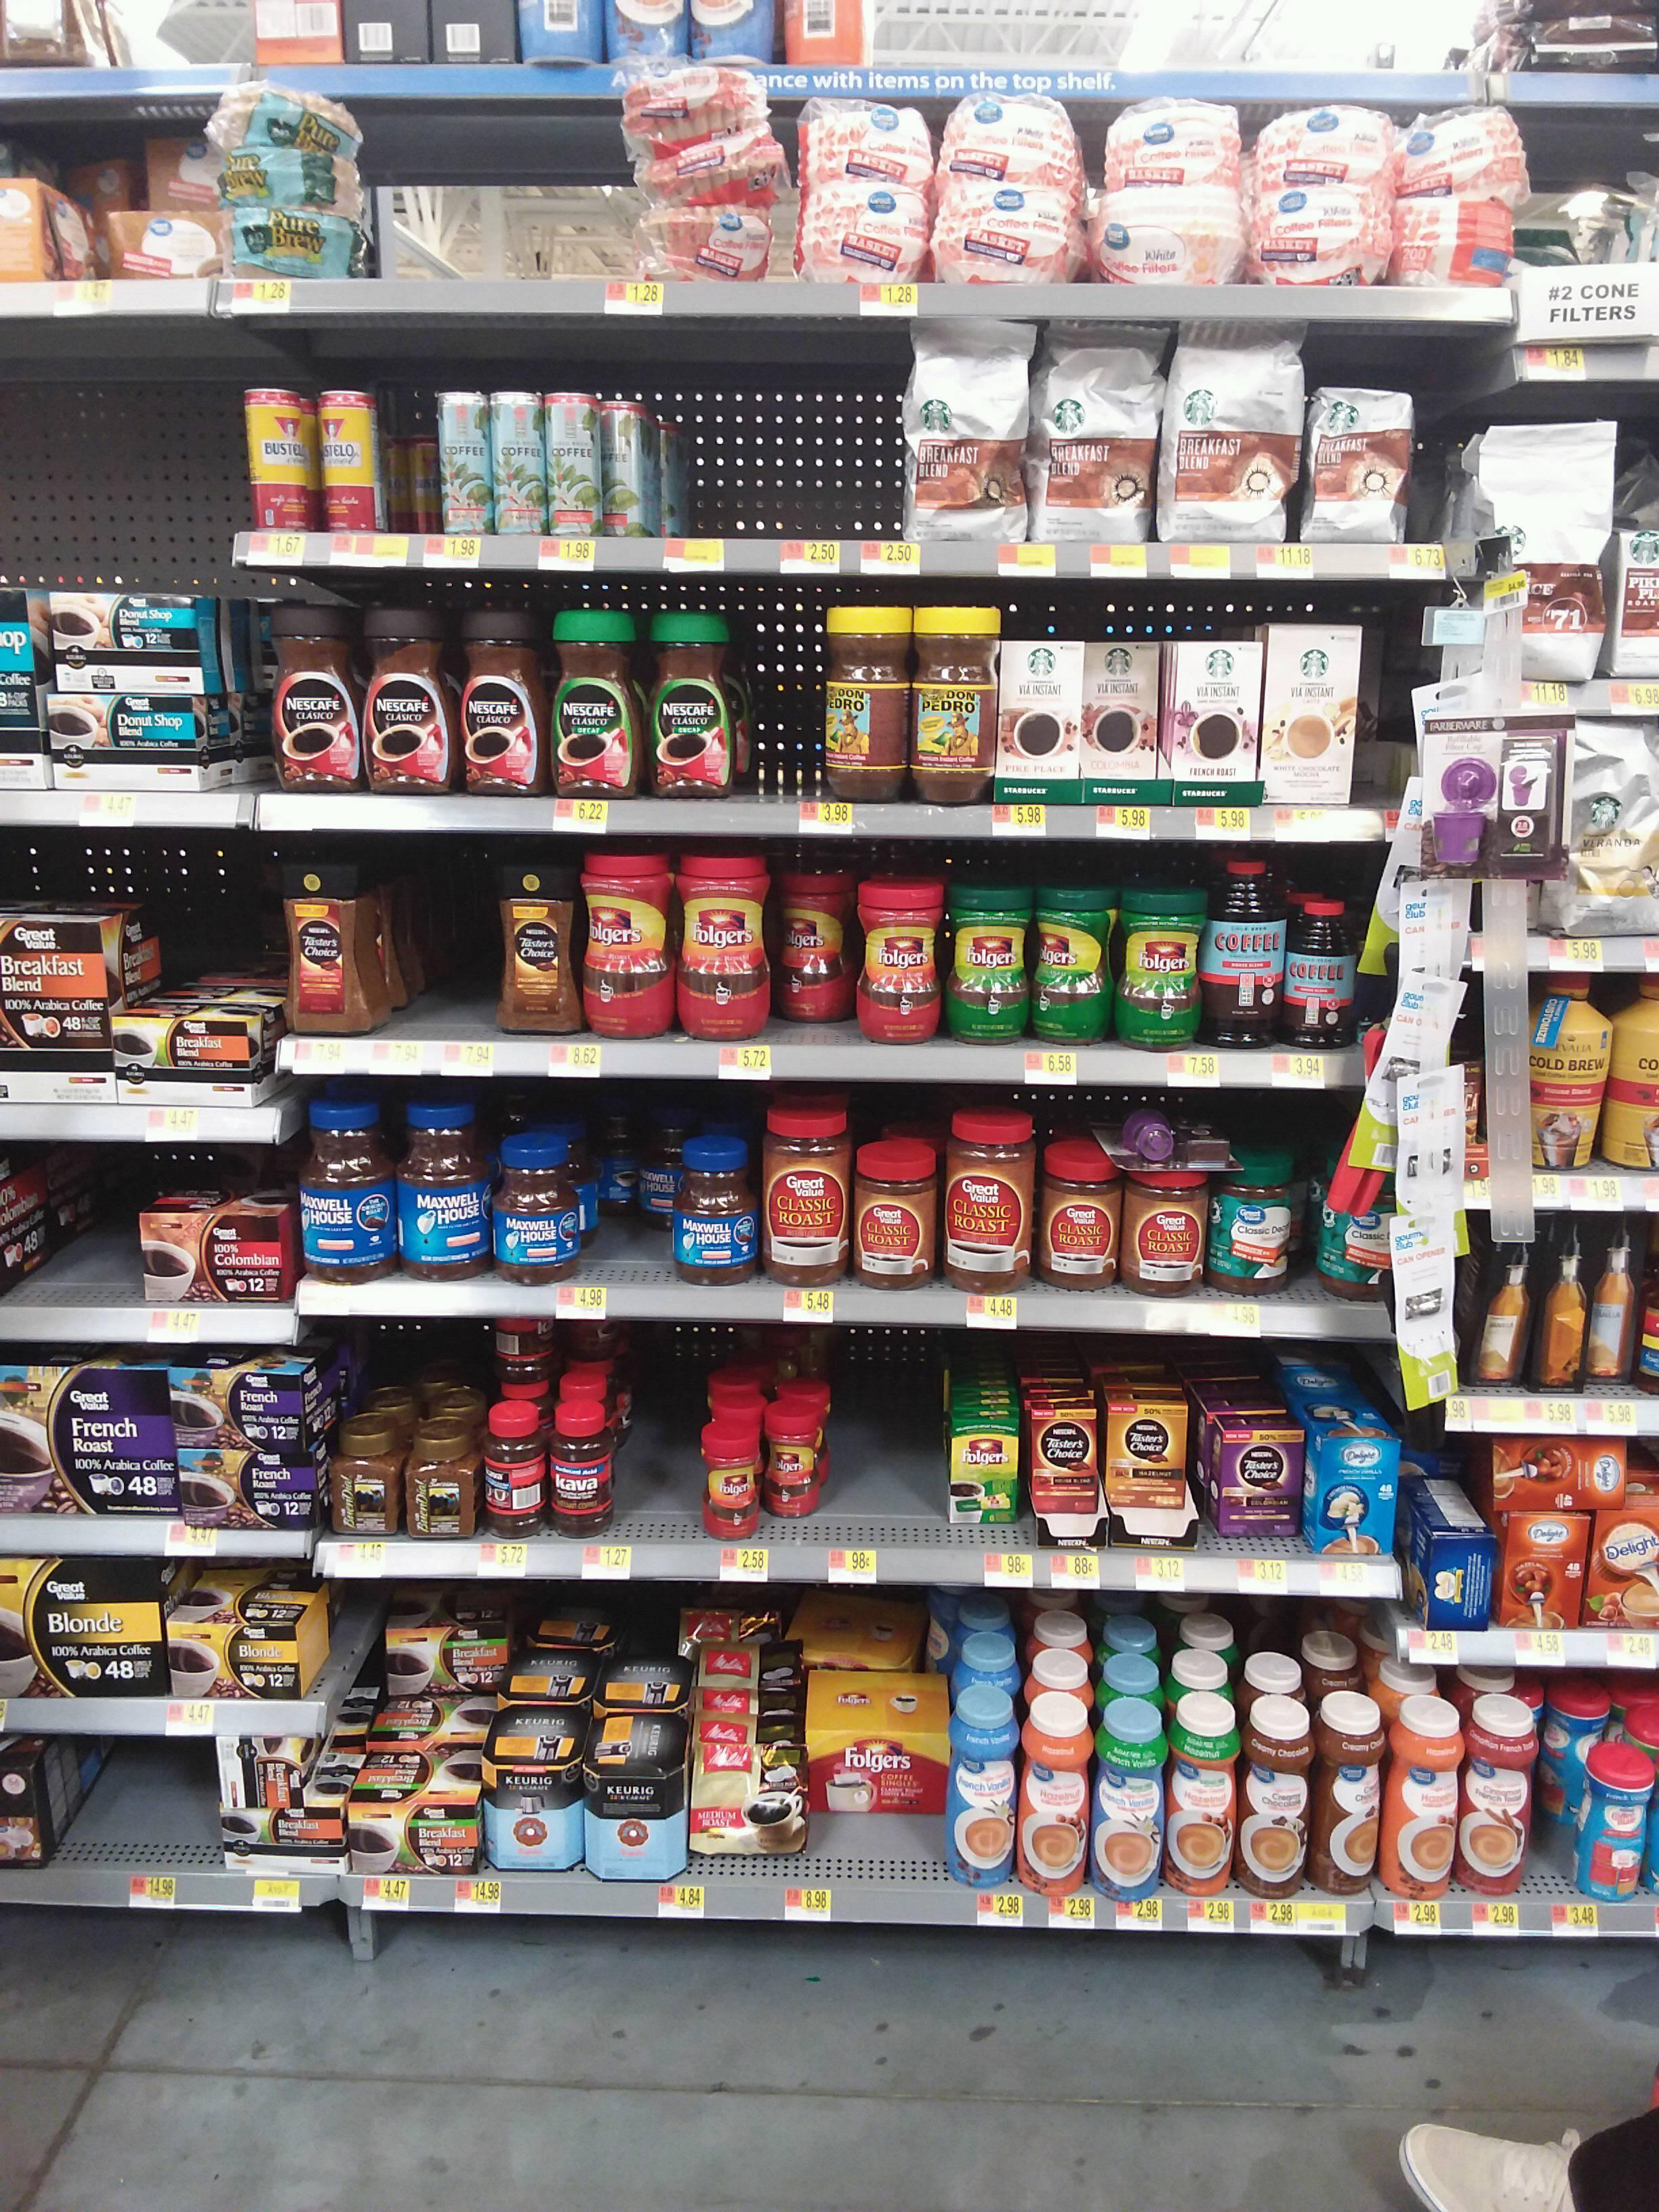misalignment: (1394, 1482, 1495, 1632), (1488, 1426, 1640, 1522), (1098, 1104, 1251, 1190)
